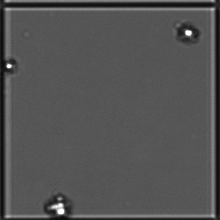Living Cell: (174, 22, 201, 49), (49, 191, 73, 215), (2, 54, 23, 74)
